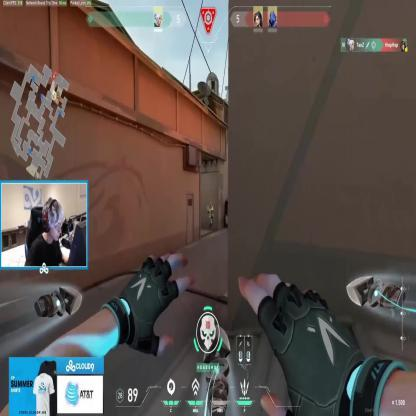enemy: (206, 201, 214, 232)
enemy_head: (209, 201, 212, 208)
